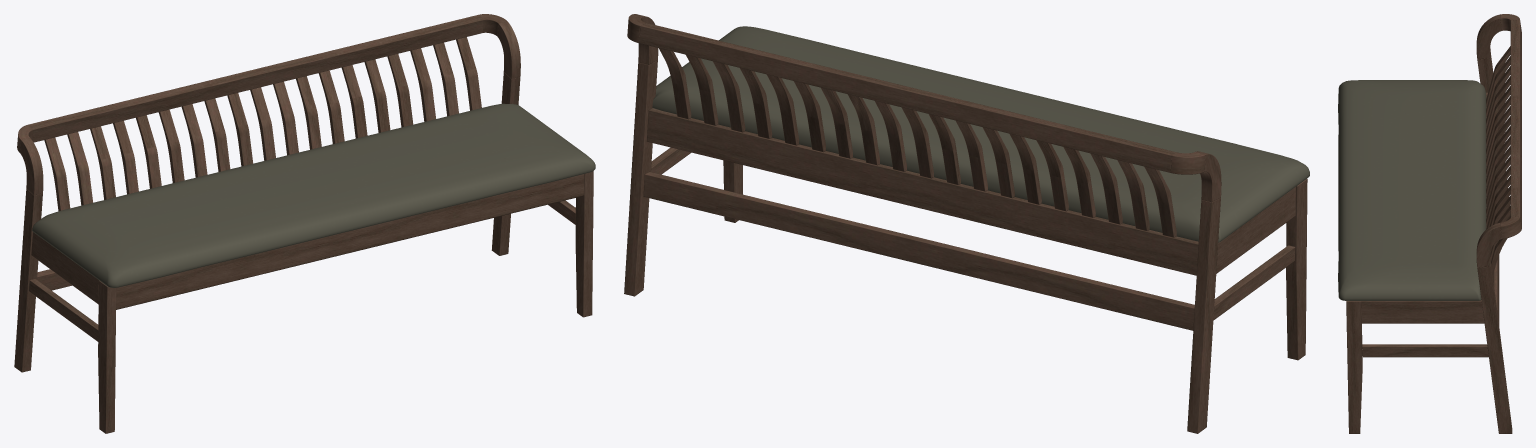
The model's file is sofa56027.glb.
3 views of the same model, side by side, from view 1: azimuth 30°, elevation 25°; view 2: azimuth 150°, elevation 25°; view 3: azimuth 270°, elevation 25° (orthographic). The views are drawn at different scales.
Visible parts, largest first — view 1: sofa56027; view 2: sofa56027; view 3: sofa56027.
Boxes of the visible parts, x1,y1,x2,y2 form: sofa56027: [14, 14, 595, 433]; sofa56027: [624, 14, 1309, 433]; sofa56027: [1338, 14, 1521, 433].
Size of the model in its own units: 1.37 by 0.63 by 0.5.
Materials: 1 (1 with a texture image).
